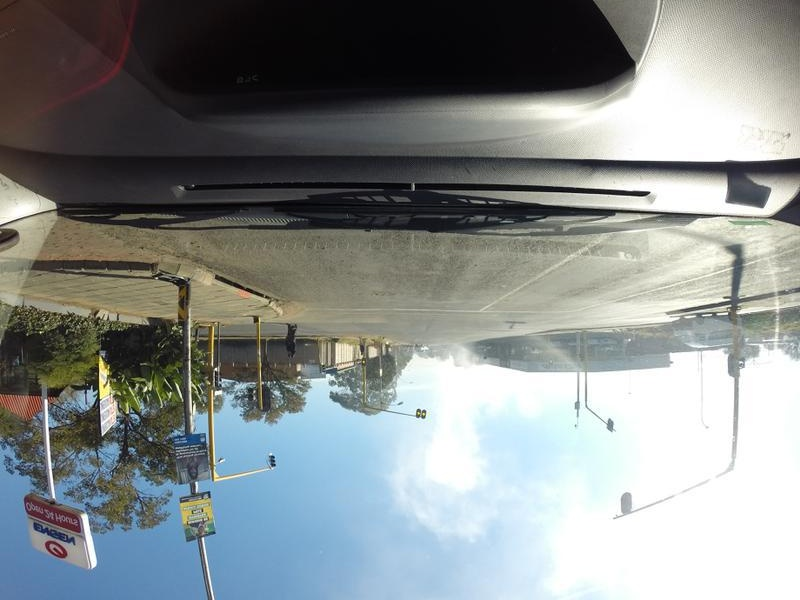pothole: (373, 289, 396, 299)
